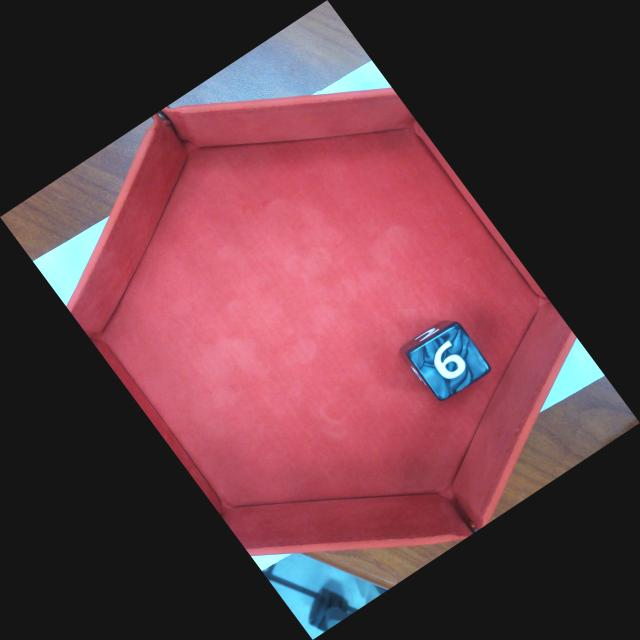dice: (411, 324, 489, 399)
